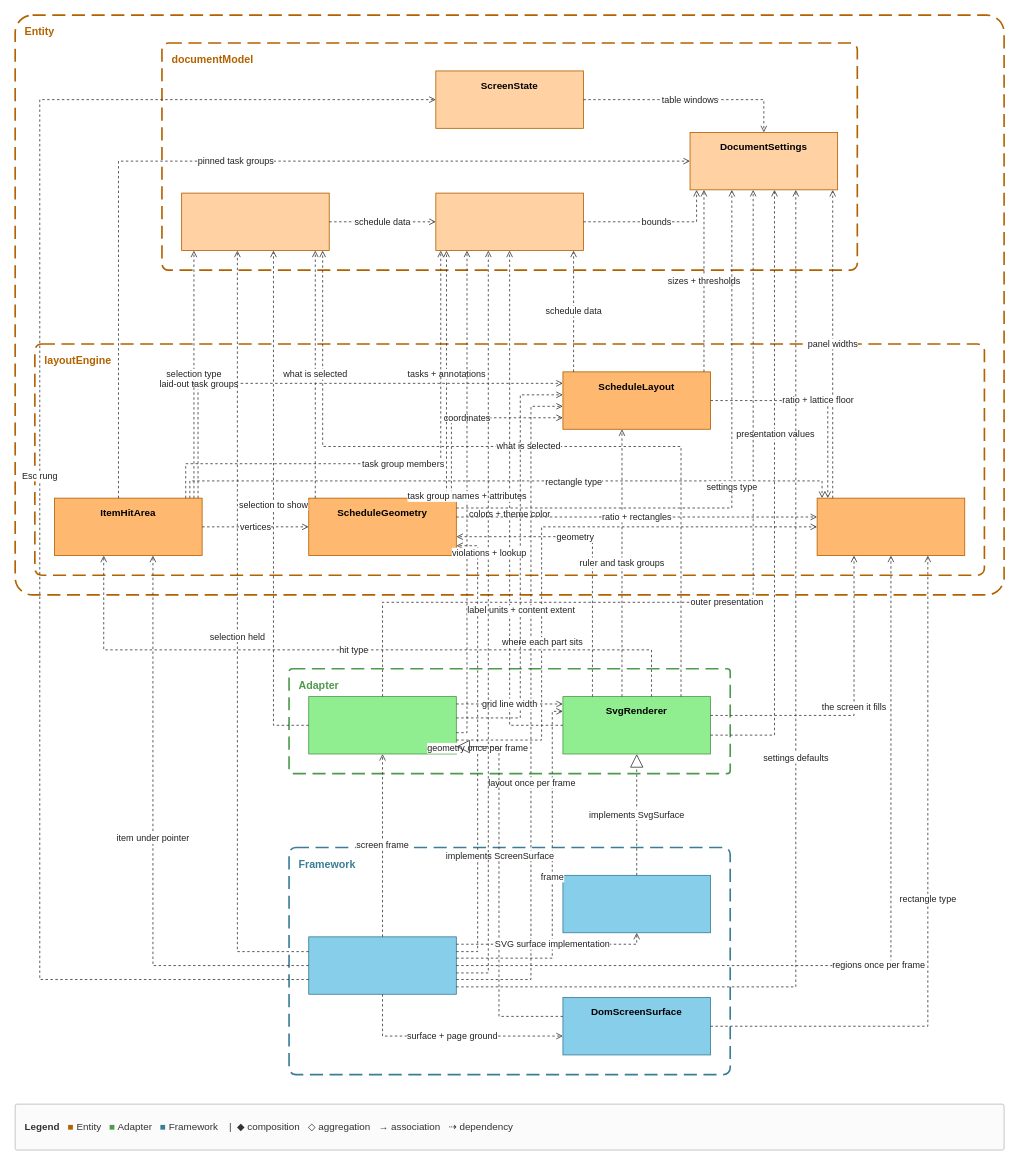
Some shapes in this 1018 by 1164 pixel diagram are drawn without their labels. The centre of each missing label's shape, as x and y in pixels:
DomSvgSurface: (636,904)
Schedule: (509,221)
ScreenRegions: (890,526)
ScreenRenderer: (382,725)
Selection: (255,221)
SingleHtmlShell: (382,965)
